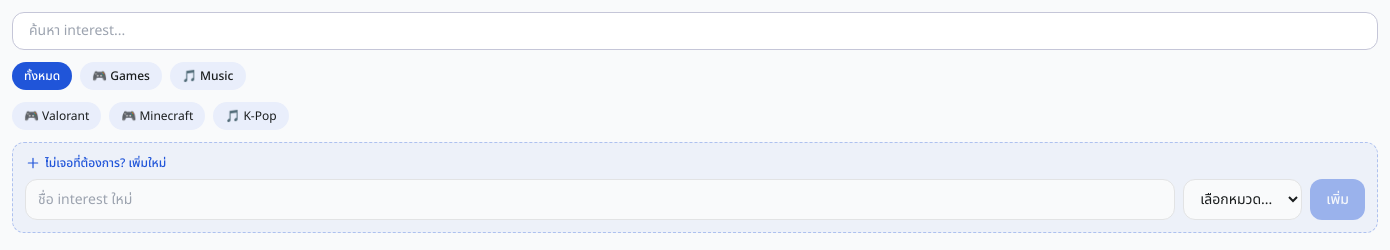
Test: InterestPicker › asks for a category when "all" is selected
Type "Jazz" into the field with placeholder "ชื่อ interest ใหม่" at (600, 200), box [25,179,1175,220]
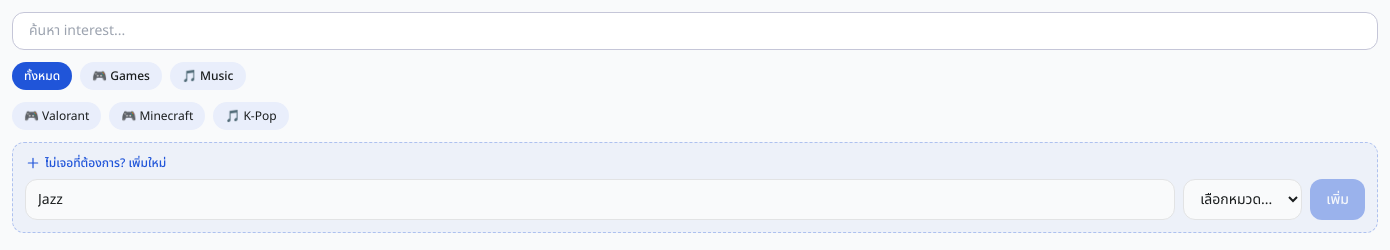
Expected: the button "เพิ่ม" is disabled, [1310,179,1365,220]
Select "🎵 Music" in the dropdown at (1243, 200), box [1183,179,1302,220]
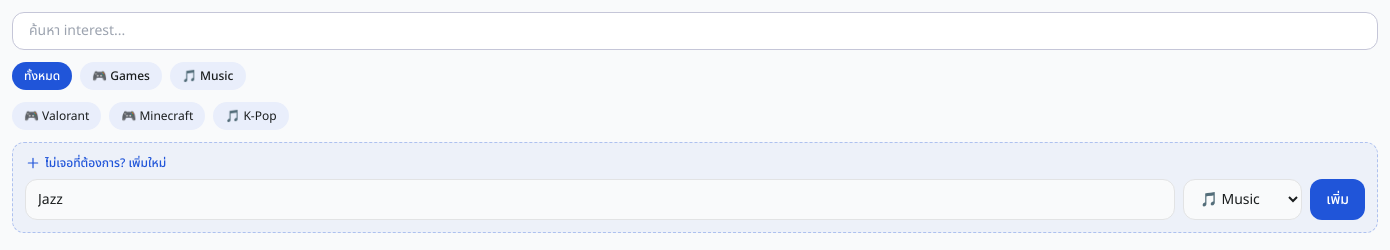
Now the button "เพิ่ม" is enabled, box [1310,179,1365,220]
